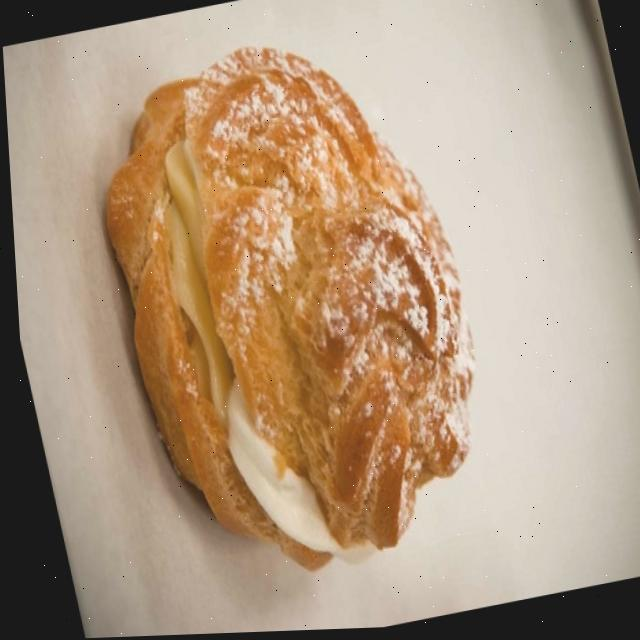炸货点心: (35, 0, 554, 619)
蛋糕甜品: (35, 0, 554, 619)
